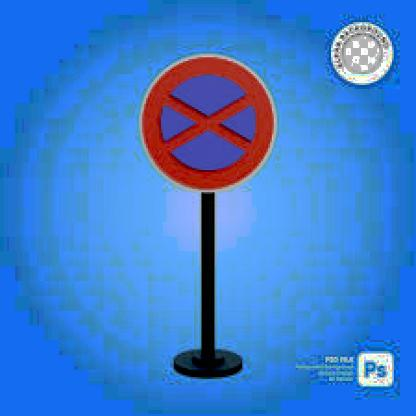No stopping: (131, 51, 274, 191)
